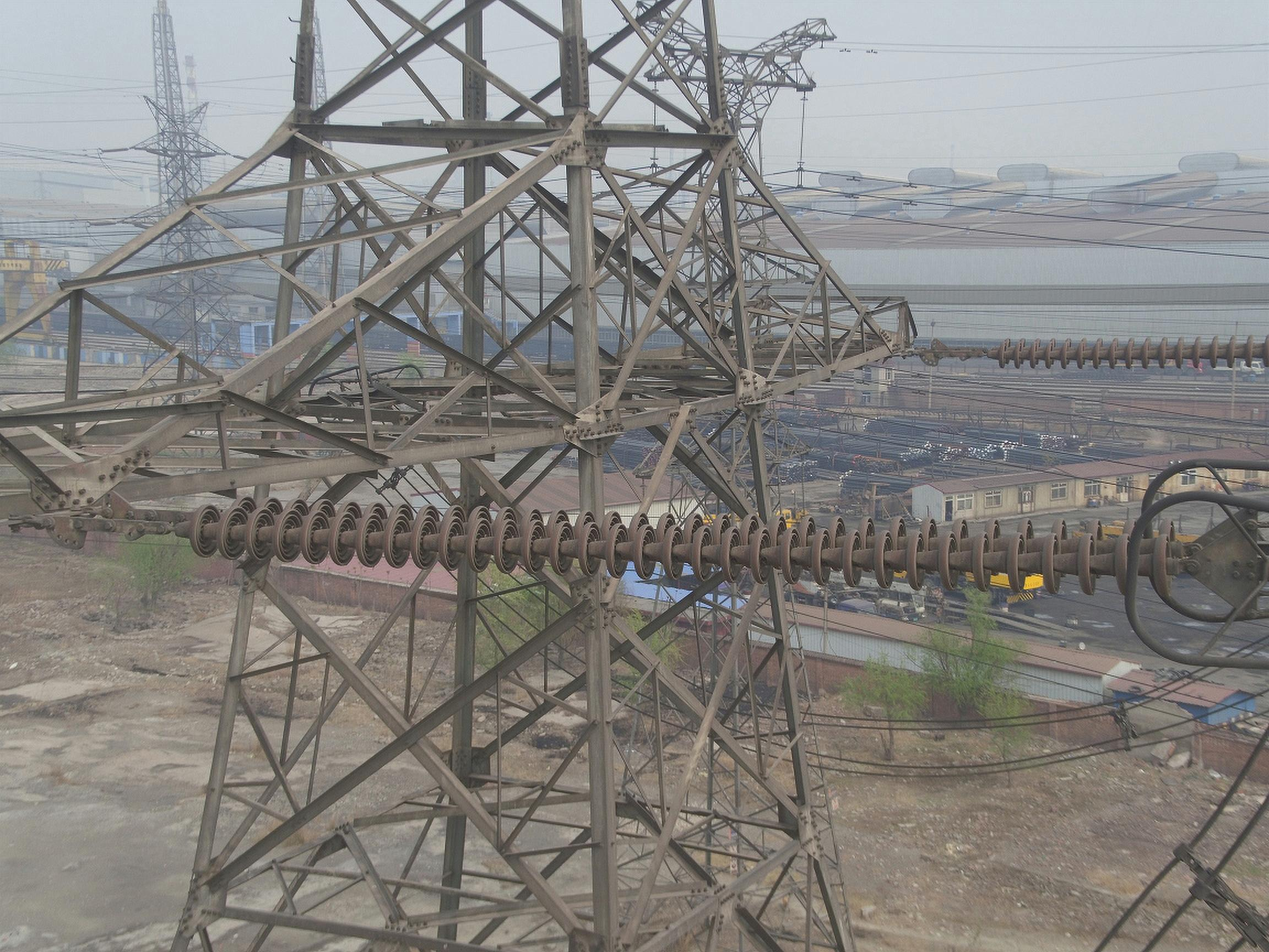insulator: (182, 491, 1185, 603), (991, 330, 1269, 372)
